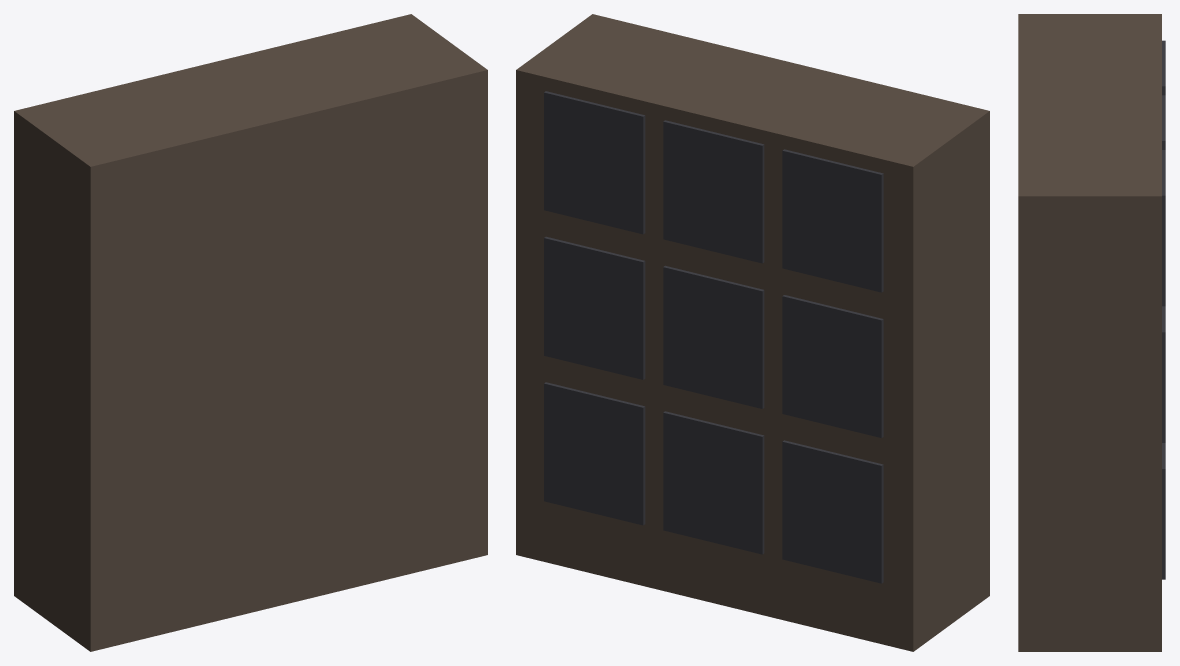
Rendered from prop_getabako.glb.
3 renders of one model, left to right at view 1: azimuth 30°, elevation 25°; view 2: azimuth 150°, elevation 25°; view 3: azimuth 270°, elevation 25°, orthographic. The views are drawn at different scales.
Parts seen in each view (by area): view 1: getabako; view 2: getabako; view 3: getabako.
Boxes of the visible parts, x1,y1,x2,y2 form: getabako: (14, 14, 487, 651); getabako: (516, 14, 989, 651); getabako: (1018, 14, 1165, 651).
Size of the model in its own units: 1.2 by 1.4 by 0.41.
